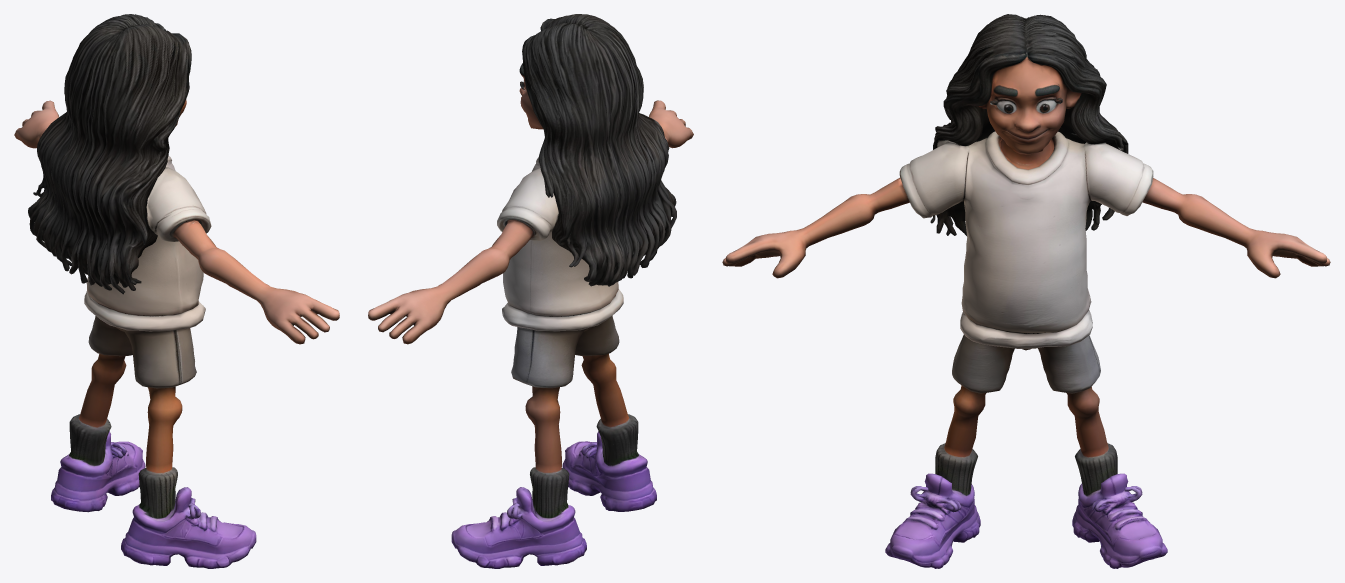
3 views of the same model, side by side, from view 1: azimuth 30°, elevation 25°; view 2: azimuth 150°, elevation 25°; view 3: azimuth 270°, elevation 25° (orthographic). The views are drawn at different scales.
Parts seen in each view (by area): view 1: tripo_node_7465a76e; view 2: tripo_node_7465a76e; view 3: tripo_node_7465a76e.
Part boxes in pixels (x1=…): tripo_node_7465a76e: x1=14, y1=14, x2=339, y2=568; tripo_node_7465a76e: x1=368, y1=14, x2=693, y2=568; tripo_node_7465a76e: x1=722, y1=14, x2=1330, y2=568.
Bounding box in the file's own units: 0.272 × 0.953 × 1.
1 material, 1 textured.
